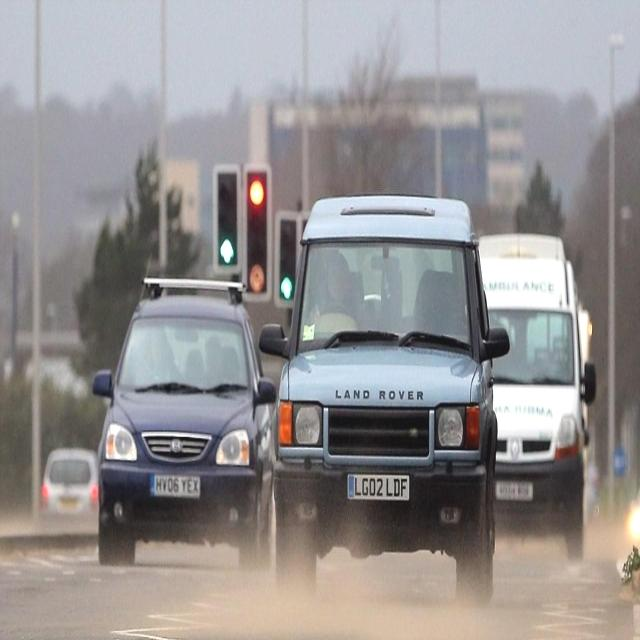Car: (256, 192, 510, 608), (91, 276, 280, 568)
Van: (440, 227, 604, 568), (41, 442, 103, 551)
